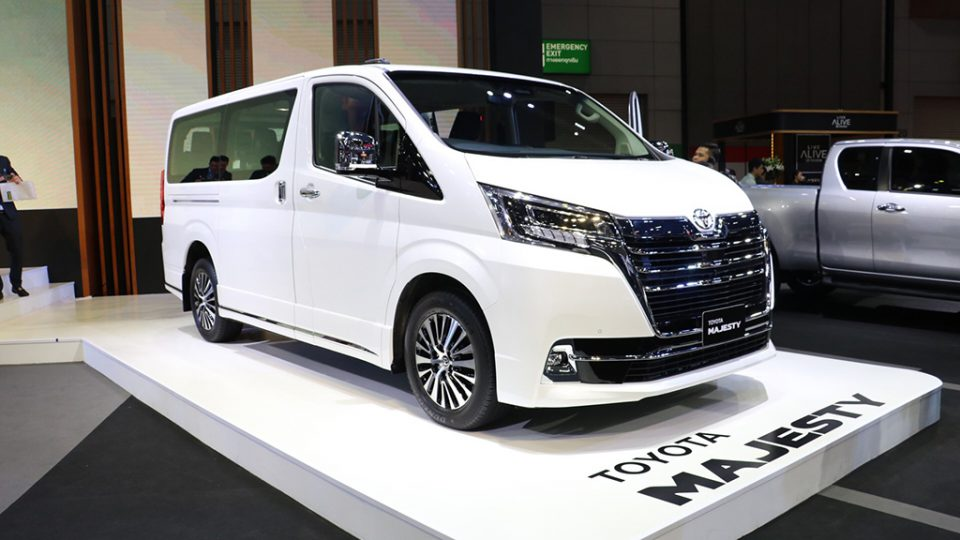van: (155, 59, 779, 433)
